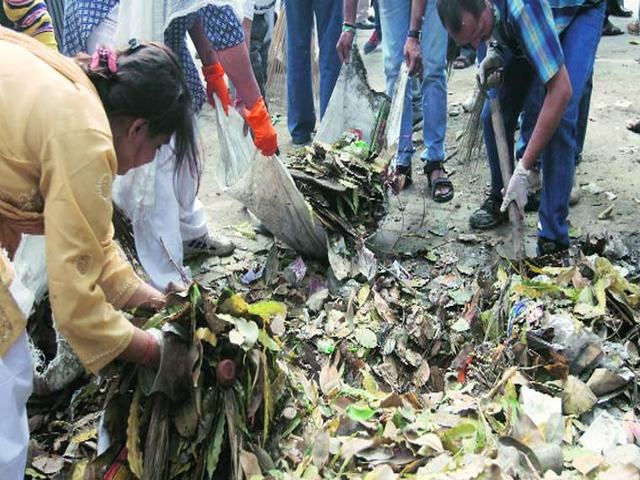garbage: (209, 250, 622, 466), (289, 151, 384, 253)
